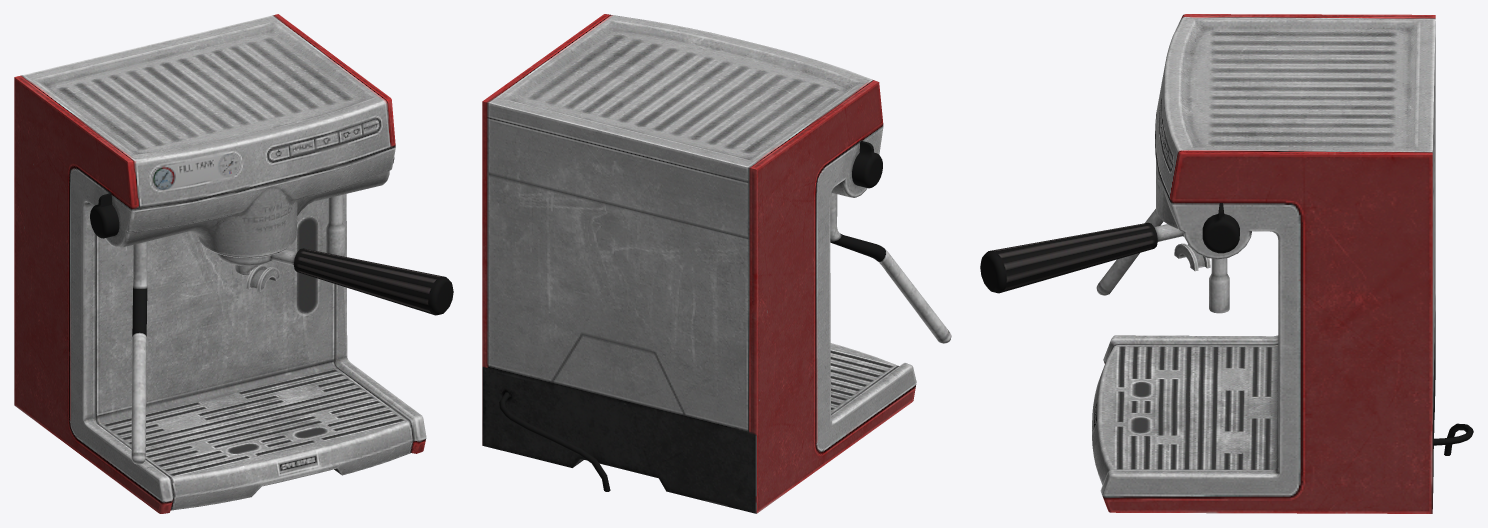
File: Coffee_Machine.fbx
3 renders of one model, left to right at view 1: azimuth 30°, elevation 25°; view 2: azimuth 150°, elevation 25°; view 3: azimuth 270°, elevation 25°, orthographic. The views are drawn at different scales.
Parts seen in each view (by area): view 1: Coffee_Machine_LOD0; view 2: Coffee_Machine_LOD0; view 3: Coffee_Machine_LOD0.
Part boxes in pixels (left/top/right/bottom): Coffee_Machine_LOD0: left=14, top=14, right=453, bottom=513; Coffee_Machine_LOD0: left=482, top=14, right=951, bottom=513; Coffee_Machine_LOD0: left=980, top=14, right=1473, bottom=513.
Size of what is drawn, in the model's own units: 45.32 by 47.04 by 57.37.
